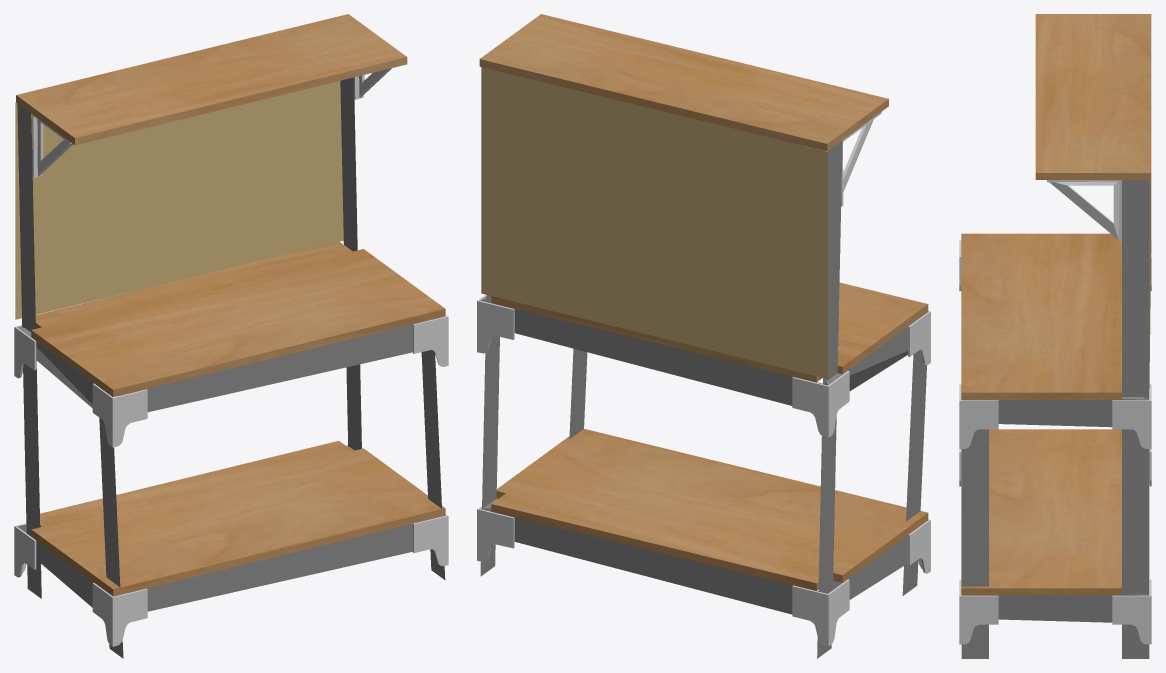
The model's file is table_workbench_2.glb.
3 renders of one model, left to right at view 1: azimuth 30°, elevation 25°; view 2: azimuth 150°, elevation 25°; view 3: azimuth 270°, elevation 25°, orthographic. The views are drawn at different scales.
Parts seen in each view (by area): view 1: Top.001_Cube.018, Pegboard_Cube.016, 2x4.007_Cube.012, Brace.007_Plane.011; view 2: Pegboard_Cube.016, Top.001_Cube.018, 2x4.007_Cube.012, Brace.007_Plane.011; view 3: Top.001_Cube.018, 2x4.007_Cube.012, Brace.007_Plane.011, Pegboard_Cube.016.
Boxes of the visible parts, <box> form: Top.001_Cube.018: <box>16,14,445,596</box>; Pegboard_Cube.016: <box>15,81,343,319</box>; 2x4.007_Cube.012: <box>17,77,445,658</box>; Brace.007_Plane.011: <box>14,68,448,646</box>; Pegboard_Cube.016: <box>481,67,827,378</box>; Top.001_Cube.018: <box>479,14,928,590</box>; 2x4.007_Cube.012: <box>480,140,927,658</box>; Brace.007_Plane.011: <box>477,112,930,646</box>; Top.001_Cube.018: <box>961,14,1151,595</box>; 2x4.007_Cube.012: <box>961,180,1149,658</box>; Brace.007_Plane.011: <box>959,180,1151,644</box>; Pegboard_Cube.016: <box>1149,180,1151,388</box>.
Bounding box in the file's own units: 1.23 × 1.74 × 0.624.
4 materials, 1 textured.
